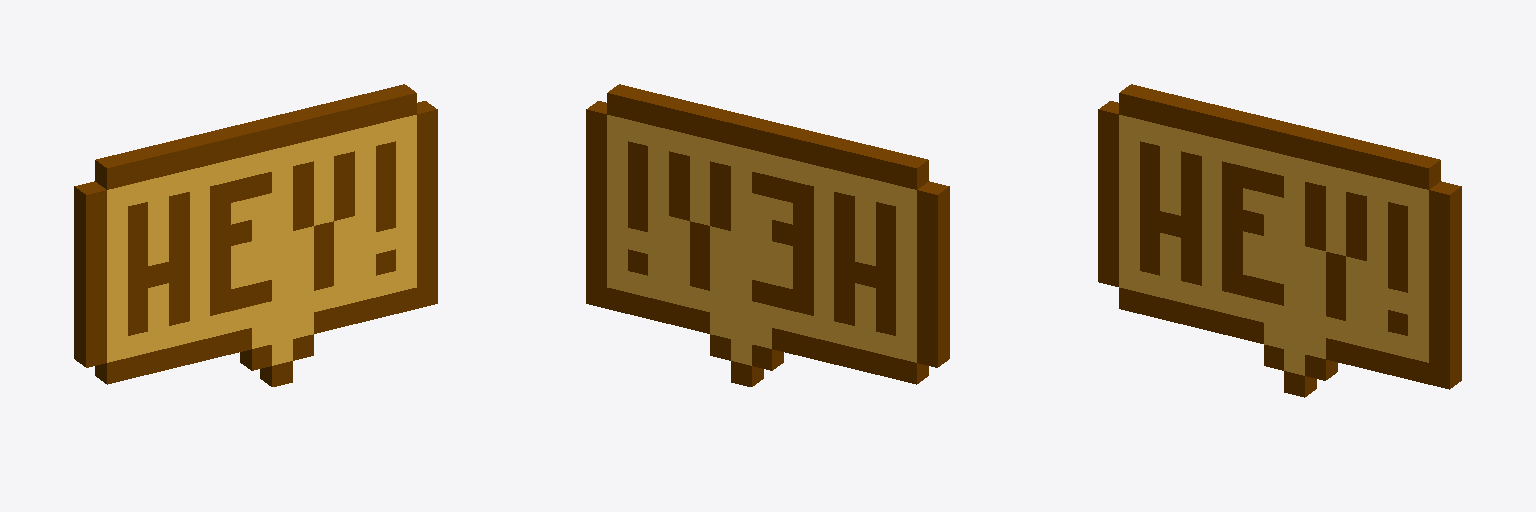
3 views of the same model, side by side, from view 1: azimuth 30°, elevation 25°; view 2: azimuth 150°, elevation 25°; view 3: azimuth 330°, elevation 25° (orthographic).
Bounding box in the file's own units: 17 × 12 × 1.
1 materials, 1 textured.